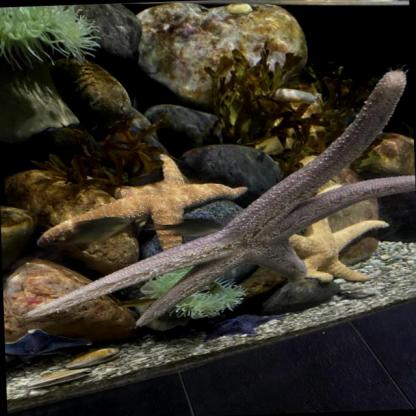starfish: (17, 69, 415, 331), (32, 151, 251, 256), (287, 182, 391, 284), (4, 326, 94, 365), (188, 312, 292, 343)
